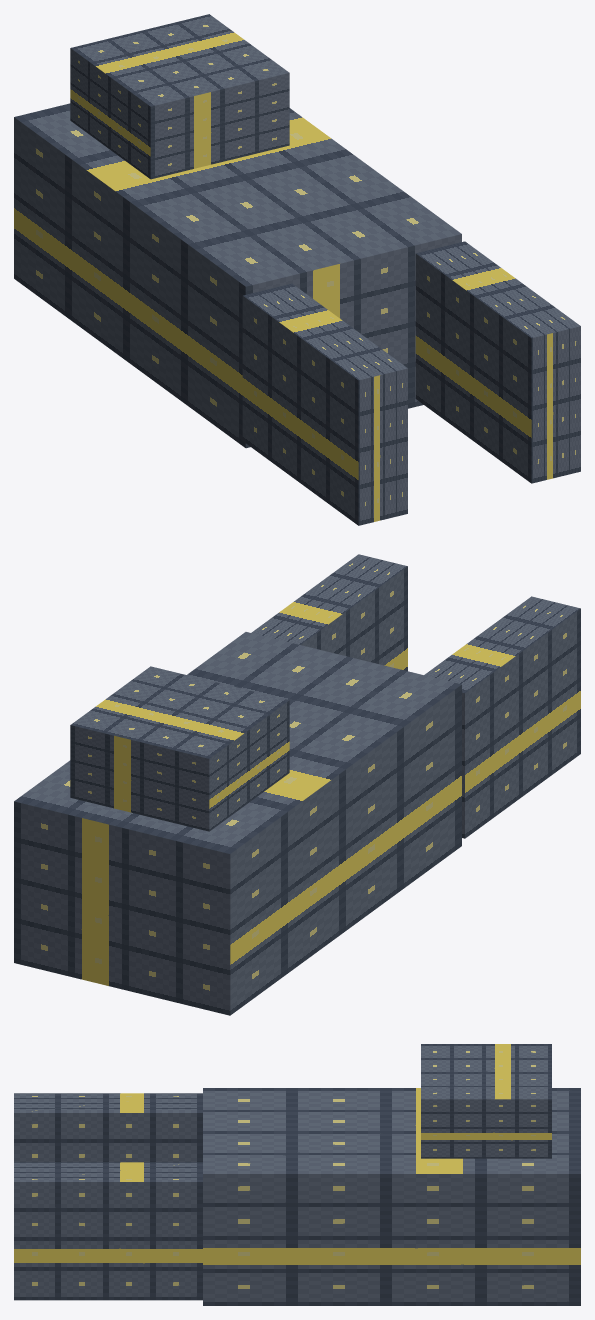
The picture shows the model from 3 angles, top to bottom: view 1: azimuth 30°, elevation 25°; view 2: azimuth 150°, elevation 25°; view 3: azimuth 270°, elevation 25°; orthographic projection. The views are drawn at different scales.
Visible parts, largest first — view 1: hull; view 2: hull; view 3: hull.
Part boxes in pixels (x1=…): hull: x1=14, y1=14, x2=580, y2=525; hull: x1=14, y1=554, x2=580, y2=1015; hull: x1=14, y1=1044, x2=580, y2=1305.
Bounding box in the file's own units: 1.47 × 1.48 × 3.98.
1 material, 1 textured.
